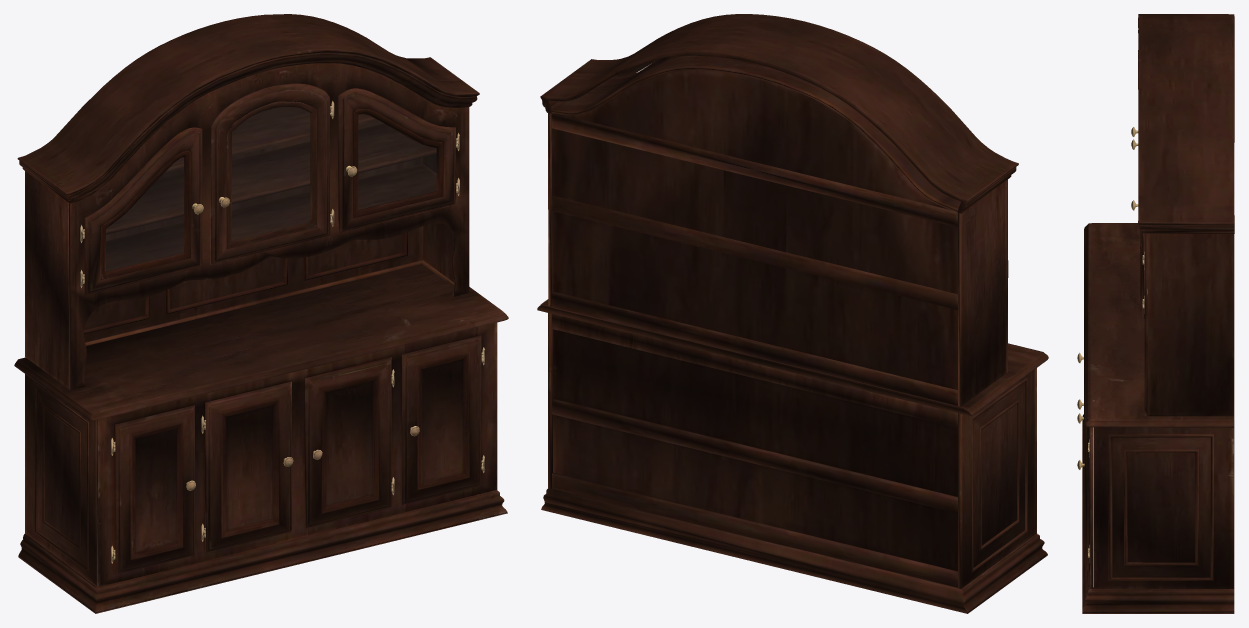
The model's file is vintage_cabinet_01.glb.
3 views of the same model, side by side, from view 1: azimuth 30°, elevation 25°; view 2: azimuth 150°, elevation 25°; view 3: azimuth 270°, elevation 25° (orthographic). The views are drawn at different scales.
Parts seen in each view (by area): view 1: vintage_cabinet_01_body, vintage_cabinet_01_door_01; view 2: vintage_cabinet_01_body; view 3: vintage_cabinet_01_body.
Part boxes in pixels (x1,y1,x2,y2): vintage_cabinet_01_body: (14,14,508,613); vintage_cabinet_01_door_01: (106,107,436,271); vintage_cabinet_01_body: (537,14,1048,613); vintage_cabinet_01_body: (1077,14,1234,613).
Bounding box in the file's own units: 2.02 × 2.23 × 0.67.
3 materials, 2 textured.
